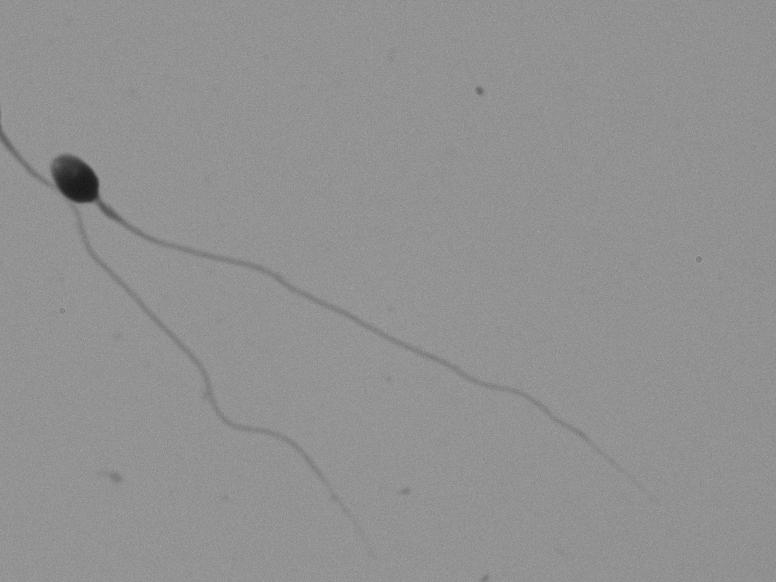Normal: (28, 132, 727, 509)
